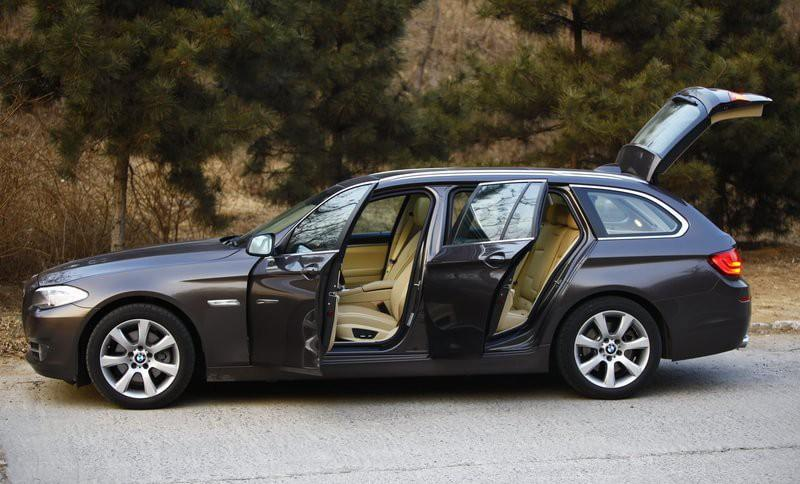Wagon: (20, 83, 774, 412)
